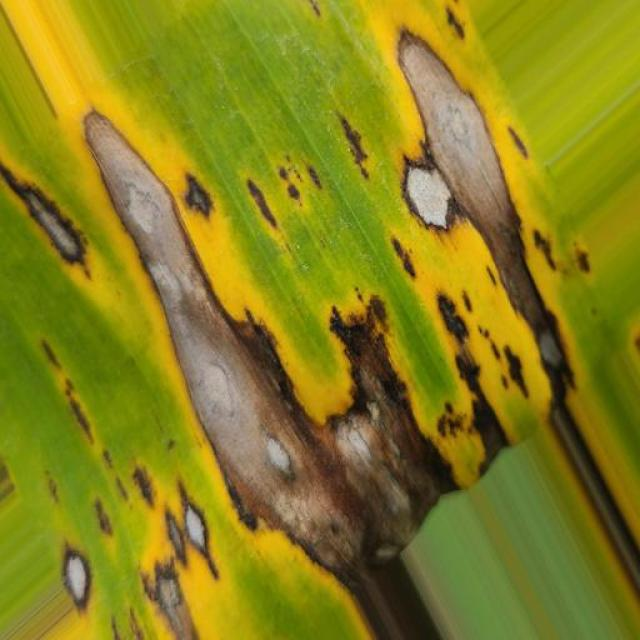Early_rust: (0, 30, 580, 640)
